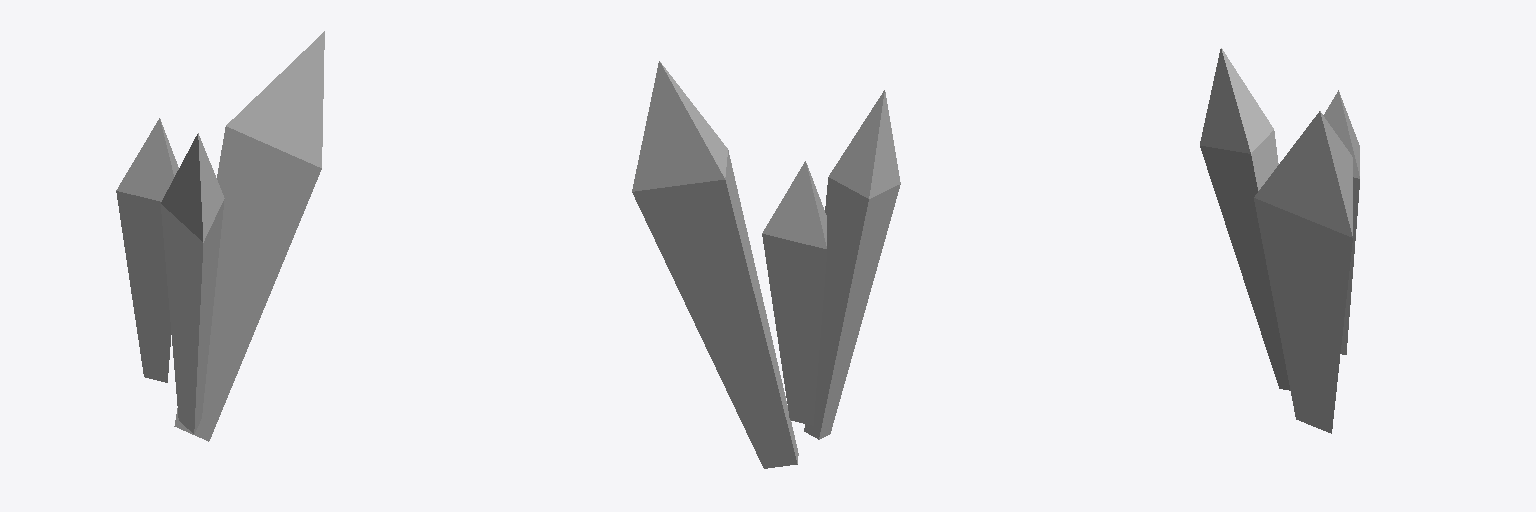
File: grassClump.obj
The picture shows the model from 3 angles: view 1: azimuth 30°, elevation 25°; view 2: azimuth 150°, elevation 25°; view 3: azimuth 270°, elevation 25°; orthographic projection.
Visible parts, largest first — view 1: grass_Cylinder.004; view 2: grass_Cylinder.004; view 3: grass_Cylinder.004.
Part boxes in pixels (left/top/right/bottom): grass_Cylinder.004: left=116, top=31, right=324, bottom=441; grass_Cylinder.004: left=632, top=61, right=900, bottom=468; grass_Cylinder.004: left=1200, top=48, right=1359, bottom=433.
Size of the model in its own units: 0.6947 by 1.26 by 0.4854.